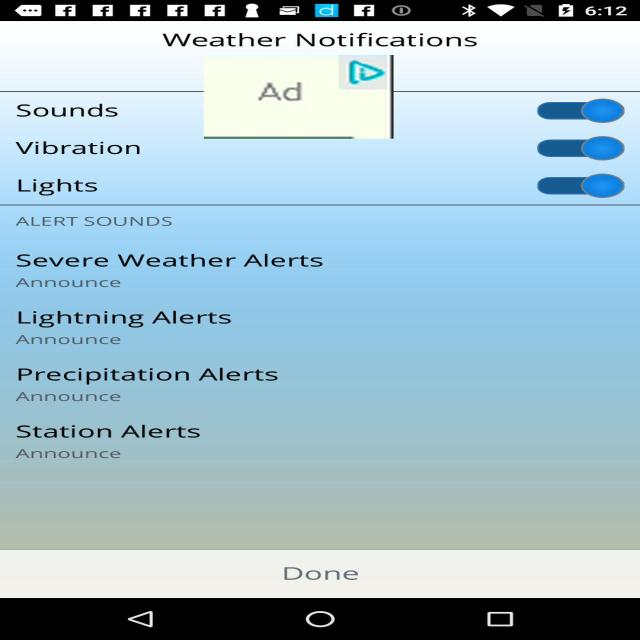sneaking: (204, 55, 393, 139)
